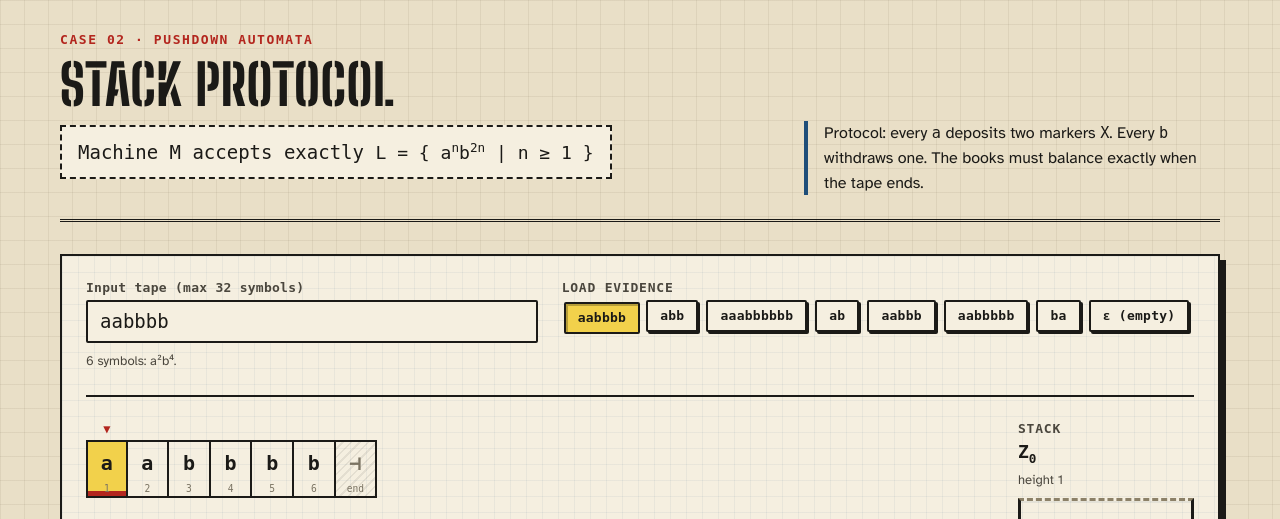
Test case: Stack Protocol simulator › rejects ab with an explanation
Replace the text in the field labelled "Input tape (max 32 symbols)" with "ab" at (312, 321), box [86, 300, 538, 343]
(page scrolled)
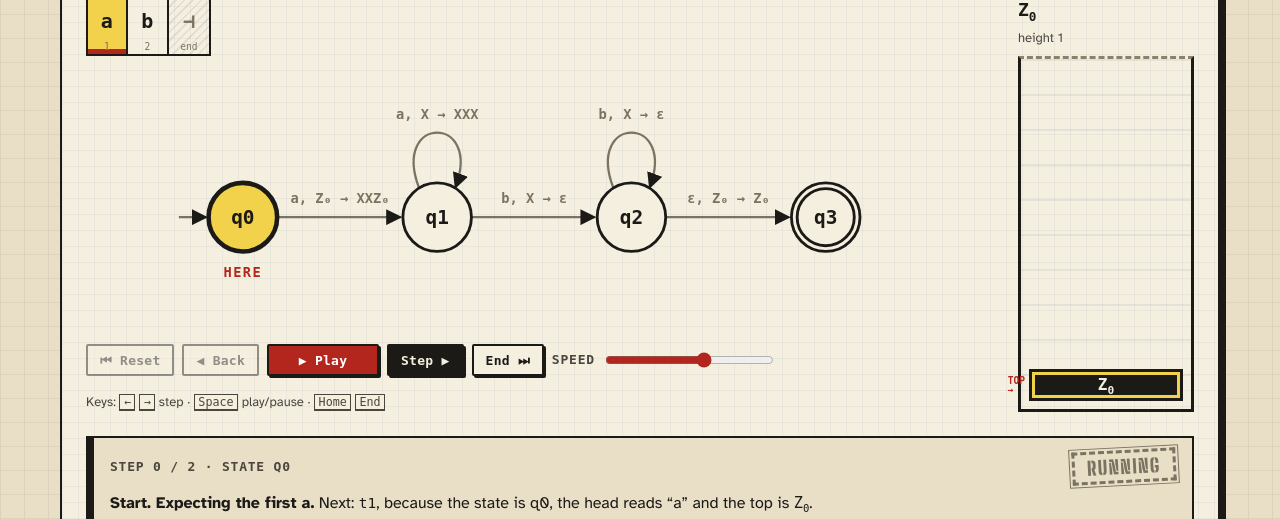
Click the button "End ⏭".
click(508, 360)  # box [472, 344, 544, 376]
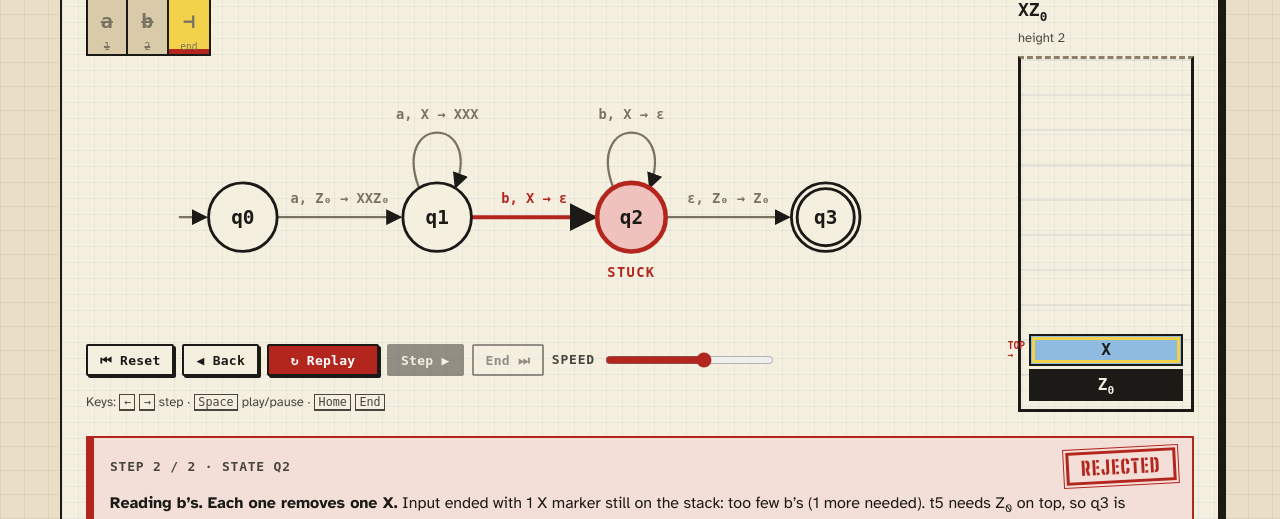
Expected: the text "rejected" is shown, [1065, 448, 1177, 486]
Expected: the message shows "too few b’s", [402, 493, 1005, 513]
